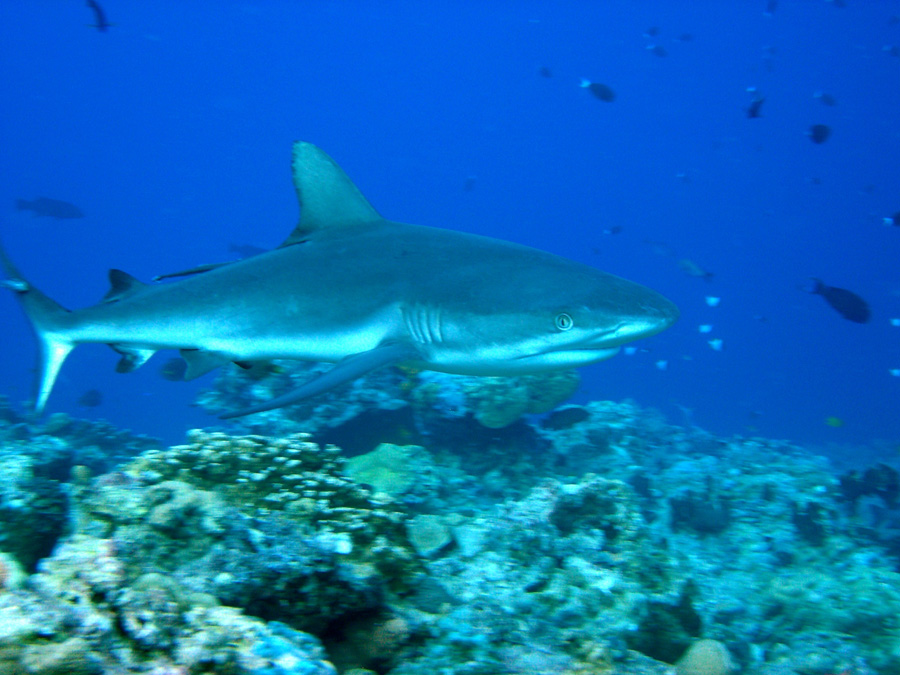Carcharhinus_amblyrhynchos: (13, 138, 700, 435)
